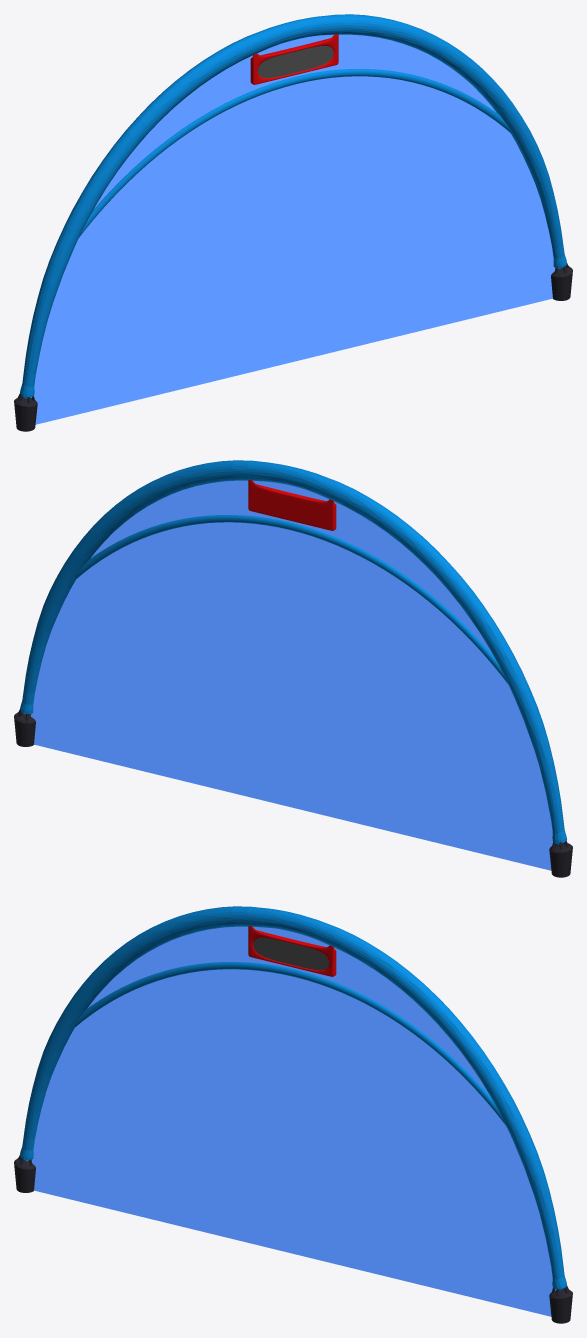
Rendered from Checkpoint_Simple.fbx.
The picture shows the model from 3 angles, top to bottom: view 1: azimuth 30°, elevation 25°; view 2: azimuth 150°, elevation 25°; view 3: azimuth 330°, elevation 25°; orthographic projection.
Parts seen in each view (by area): view 1: Transparent, Cube; view 2: Transparent, Cube; view 3: Transparent, Cube.
Boxes of the visible parts, x1=… form: Transparent: x1=34, y1=34, x2=555, y2=424; Cube: x1=14, y1=14, x2=572, y2=431; Transparent: x1=31, y1=480, x2=552, y2=870; Cube: x1=14, y1=460, x2=572, y2=877; Transparent: x1=31, y1=926, x2=555, y2=1316; Cube: x1=14, y1=906, x2=572, y2=1323.
Size of the model in its own units: 1038 by 608 by 38.71.
